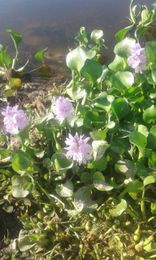water_hyacinth: (0, 3, 156, 226)
